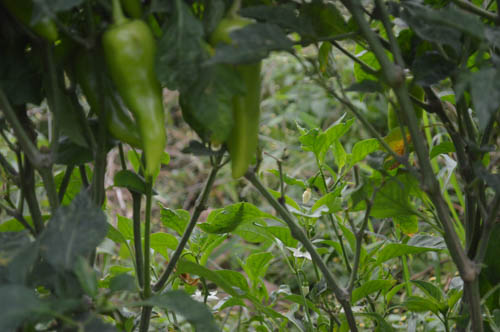ChiliPepper: (109, 25, 174, 175), (211, 20, 267, 179), (79, 50, 143, 147)
